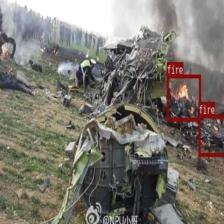fire: (166, 74, 201, 120), (198, 114, 224, 155)
